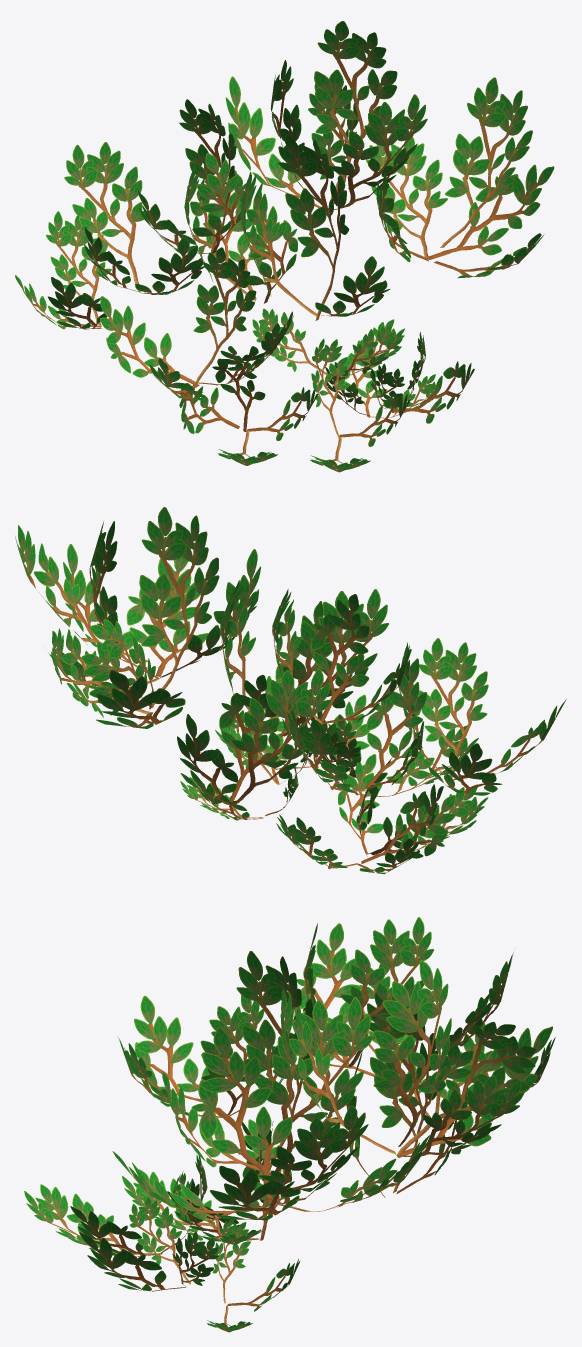
Rendered from FolhaArvore02.fbx.
The picture shows the model from 3 angles, top to bottom: view 1: azimuth 30°, elevation 25°; view 2: azimuth 150°, elevation 25°; view 3: azimuth 270°, elevation 25°; orthographic projection. The views are drawn at different scales.
Parts seen in each view (by area): view 1: FolhaArvore.02; view 2: FolhaArvore.02; view 3: FolhaArvore.02.
Part boxes in pixels (<box>): FolhaArvore.02: <box>15,21,554,472</box>; FolhaArvore.02: <box>15,507,566,874</box>; FolhaArvore.02: <box>24,917,555,1332</box>.
Size of the model in its own units: 528 by 377 by 471.
